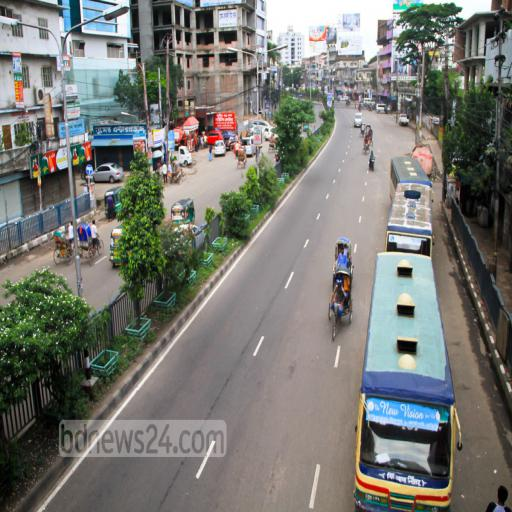bus: (356, 250, 464, 512), (385, 182, 435, 253), (389, 155, 432, 184)
car: (93, 162, 124, 183), (212, 139, 227, 157), (208, 129, 223, 141), (227, 136, 235, 152)
minivan: (246, 137, 256, 157), (363, 97, 377, 107), (253, 120, 271, 126)
motorbike: (369, 154, 377, 172)
pickup: (176, 145, 194, 162), (399, 113, 410, 126)
rickshaw: (325, 265, 356, 346), (77, 218, 105, 268), (52, 225, 76, 271), (332, 233, 354, 262), (169, 161, 187, 184), (236, 147, 249, 171), (268, 134, 279, 154), (363, 135, 372, 154), (365, 123, 373, 134), (361, 123, 366, 136)
suv: (376, 103, 392, 115), (264, 127, 280, 136)
three wheelers (CNG): (103, 186, 130, 220), (109, 222, 128, 268), (171, 197, 196, 226), (303, 121, 311, 133)
van: (354, 112, 364, 125)
